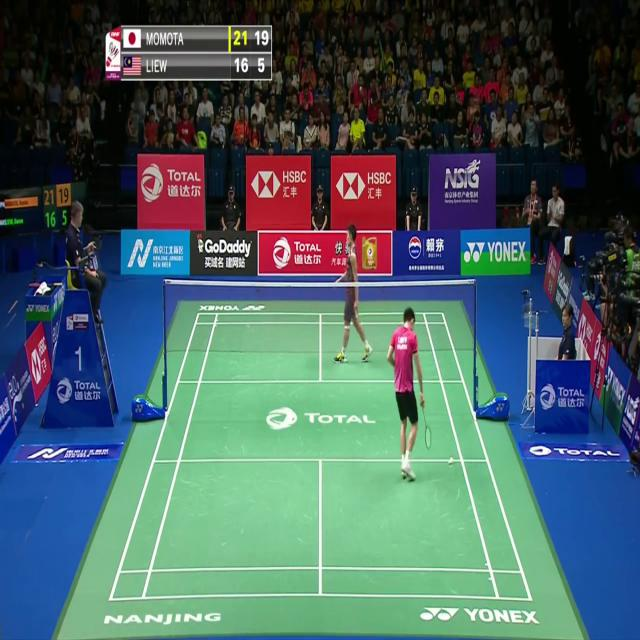Shuttlecock: (448, 454, 454, 465)
